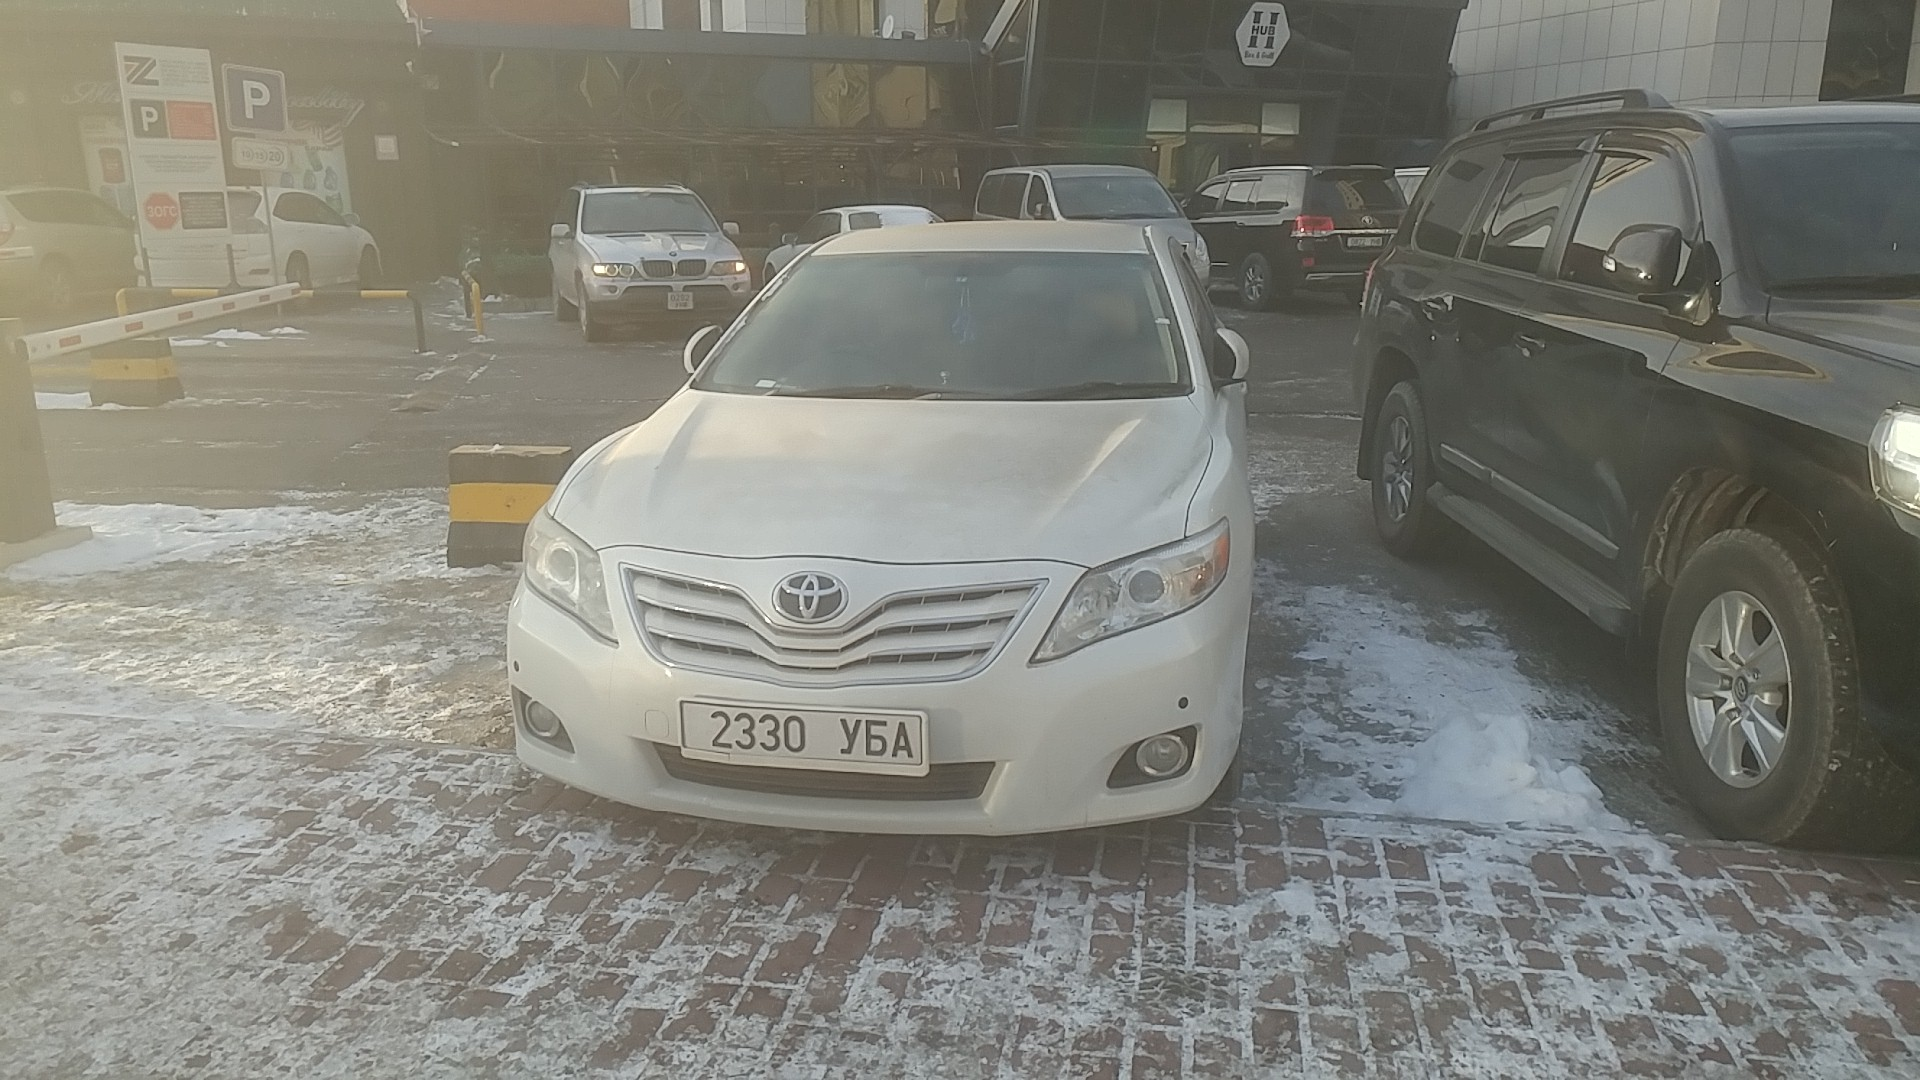0: (782, 715, 807, 753)
2: (709, 709, 734, 749)
3: (757, 712, 781, 753), (734, 713, 756, 751)
a: (891, 721, 914, 760)
b: (864, 719, 889, 758)
plate: (676, 695, 933, 780)
u: (839, 717, 863, 756)
